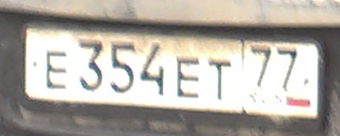character: (104, 32, 137, 99), (74, 34, 105, 95), (137, 38, 167, 99), (172, 51, 204, 104), (206, 53, 236, 108), (274, 42, 302, 95), (246, 40, 274, 91), (44, 50, 71, 92)
